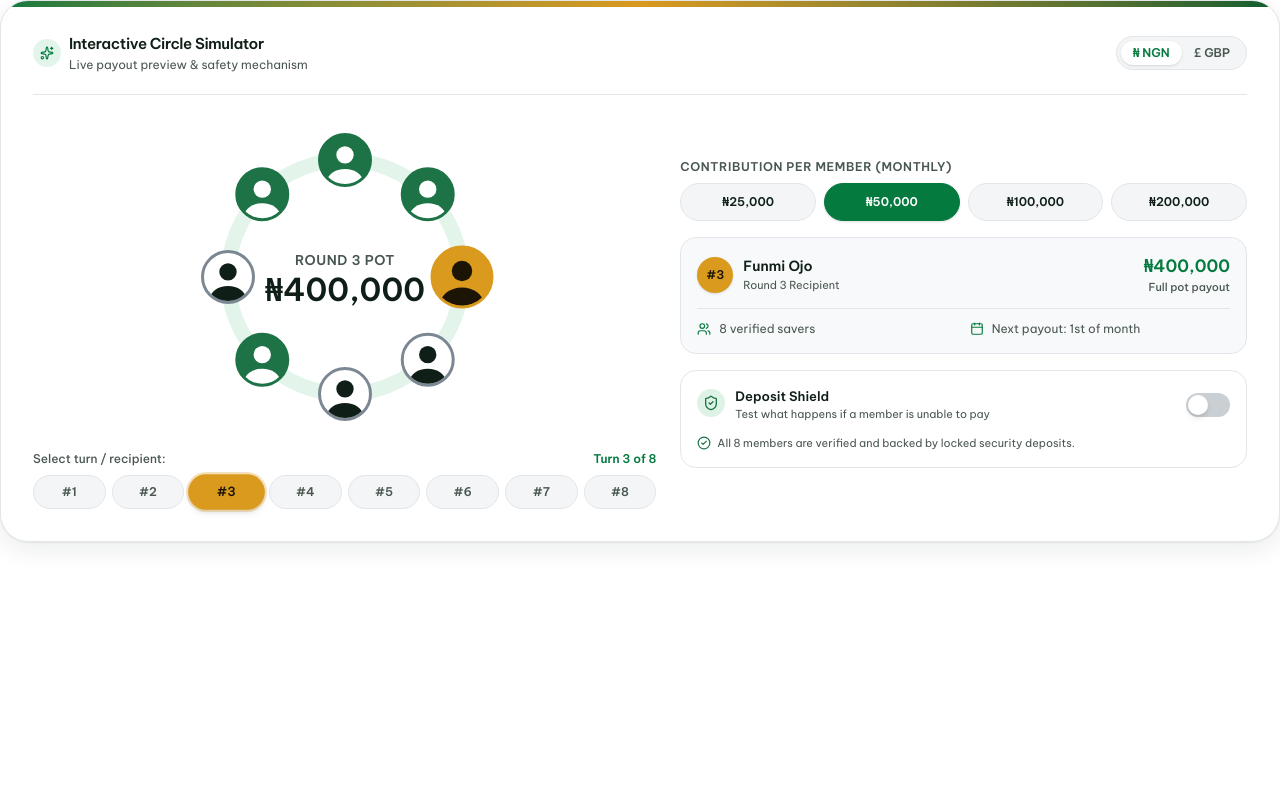
Test: InteractiveCircleSimulator › changes selected turn when clicking a turn button
The width and height of the screenshot is (1280, 800).
# Select Turn 1 (Adébáyọ̀ Ola)
Click the tab named "Select Turn 1": (69, 492) x1=33 y1=474 x2=106 y2=508
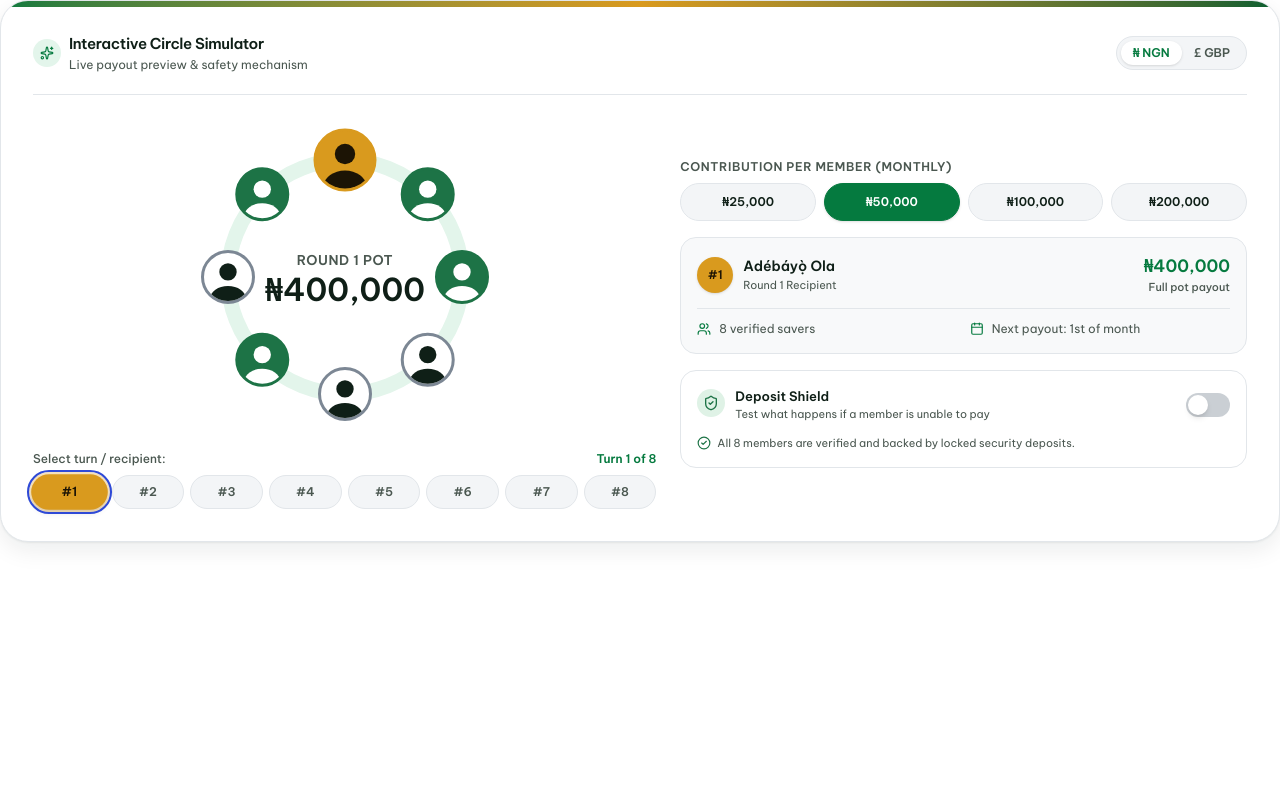
Result: the text "Adébáyọ̀ Ola" is shown at x1=743 y1=256 x2=837 y2=277
Result: the text "Turn 1 of 8" is shown at x1=596 y1=450 x2=656 y2=466
